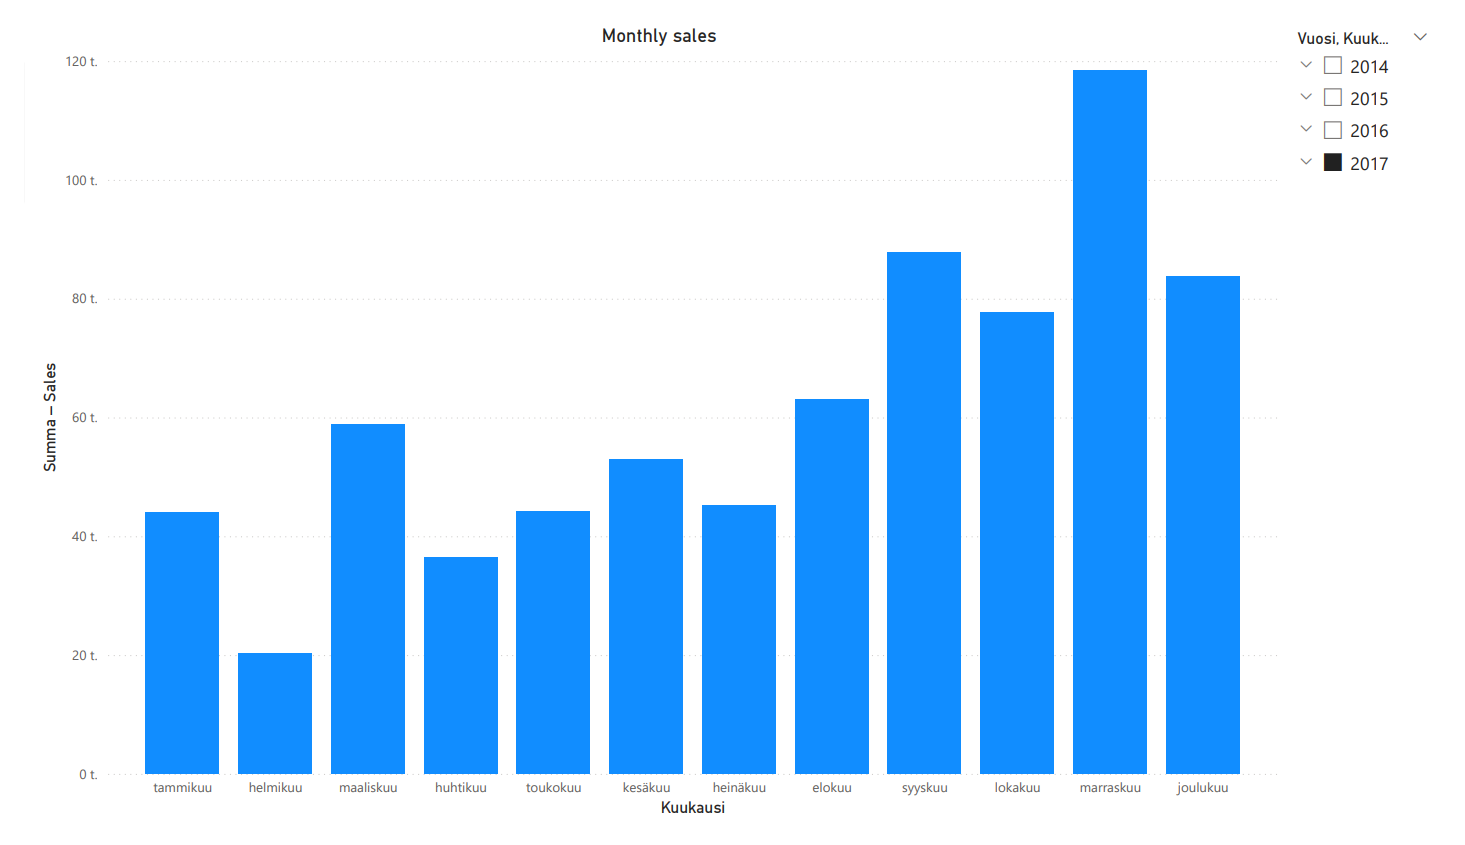

Layout of this report page (visuals, bound fields, positions):
{"tool":"powerbi","page":{"name":"Monthly sales","canvas":[1280,720],"ordinal":0},"visuals":[{"type":"clusteredColumnChart","title":"Monthly sales","fields":{"Category":["sales_processed.Order Date.Vaihtelu.Päivämäärähierarkia.Kuukausi"],"Y":["Sum(sales_processed.Sales)"]},"box":[9.7,0,1127.3,719.8],"z":0},{"type":"slicer","fields":{"Values":["sales_processed.Order Date.Vaihtelu.Päivämäärähierarkia.Vuosi","sales_processed.Order Date.Vaihtelu.Päivämäärähierarkia.Kuukausi"]},"box":[1137,0,143,719.8],"z":1000}]}

Visuals, with their boxes in screenshot pixels (x1, y1, x2, y2), scaled from the page's 1280x720 canvas onto the 1465x845 screenshot:
"Monthly sales" clusteredColumnChart: bbox=[11, 0, 1301, 844]
slicer - sales_processed.Order Date.Vaihtelu.Päivämäärähierarkia.Vuosi x sales_processed.Order Date.Vaihtelu.Päivämäärähierarkia.Kuukausi: bbox=[1301, 0, 1464, 844]
